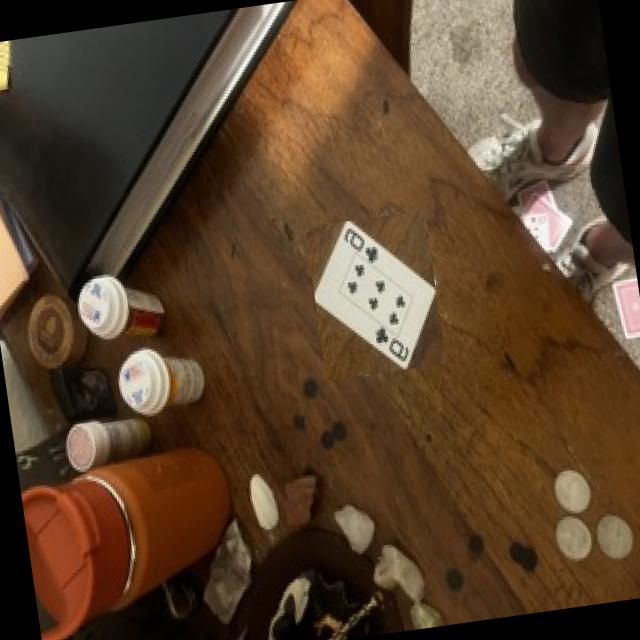6 of clubs: (315, 221, 436, 369)
